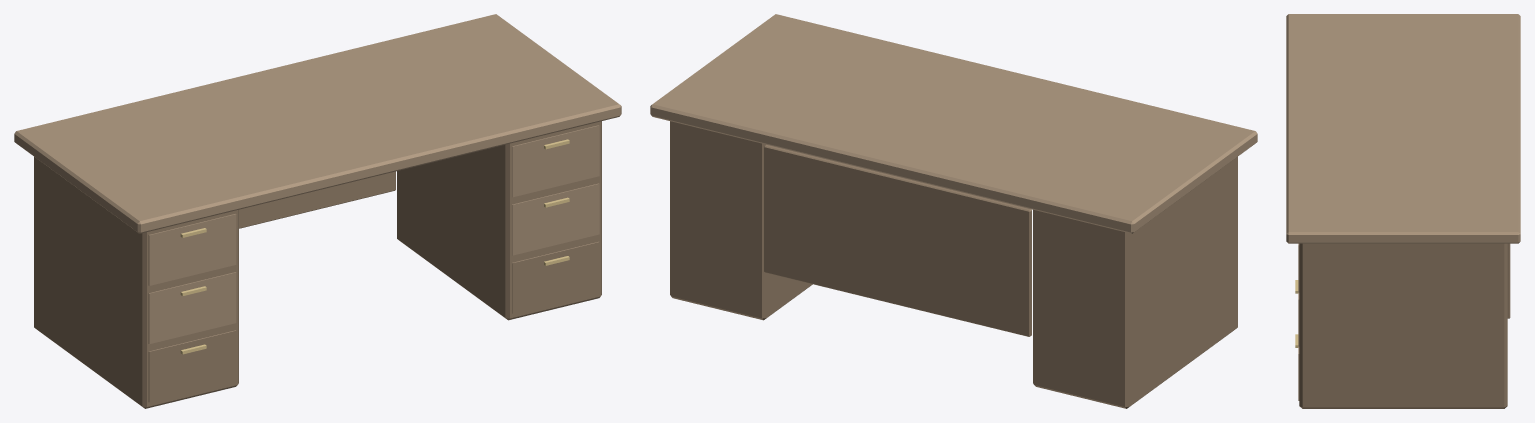
The model's file is desk_long.glb.
The picture shows the model from 3 angles, left to right: view 1: azimuth 30°, elevation 25°; view 2: azimuth 150°, elevation 25°; view 3: azimuth 270°, elevation 25°; orthographic projection. The views are drawn at different scales.
Visible parts, largest first — view 1: desk_long; view 2: desk_long; view 3: desk_long.
Boxes of the visible parts, x1,y1,x2,y2 form: desk_long: (14,14,621,408); desk_long: (650,14,1257,408); desk_long: (1286,14,1520,408).
Size of the model in its own units: 2 by 0.775 by 0.9.
